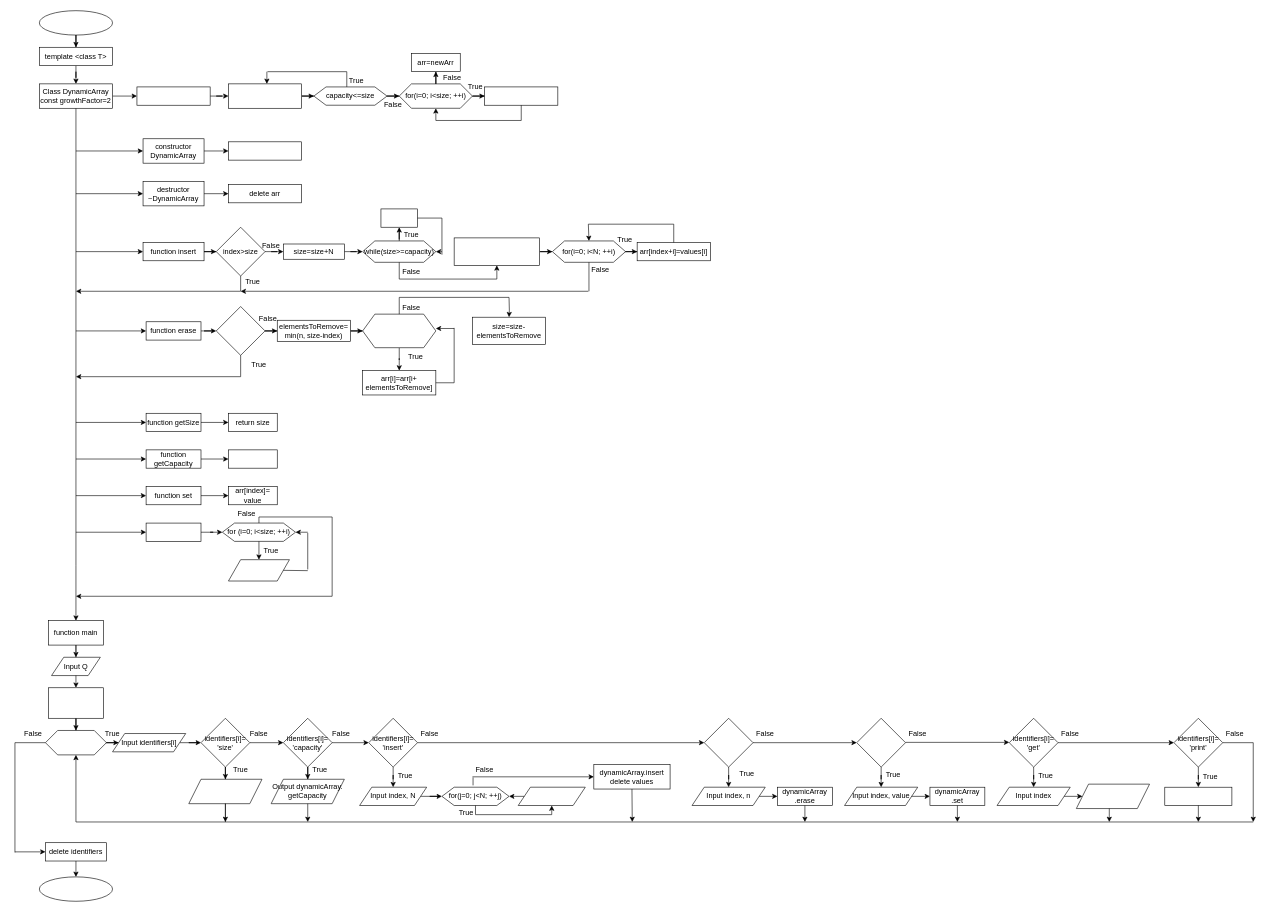
Image size: 1269x912. Some labels were removed from this diagram. Here are the shapes that lost their labels. From the top down, the centre of each, then its label:
At (76,22): "Beginning".
At (173,95): "function resize".
At (265,95): "capacity=capacity* growthFactor".
At (521,95): "newArr[i]=arr[i]".
At (265,150): "arr=new T[capacity]".
At (399,217): "resize".
At (497,251): "copy_backward(arr+index, arr+size-N; arr+size)".
At (240,330): "index>=size".
At (399,331): "for(i=index; i<size-elementsToRemove; i++)".
At (252,458): "return capacity".
At (173,531): "function print".
At (258,570): "Output arr[i]".
At (75,702): "DynamicArray dynamicArray".
At (75,742): "for(i=0; i<Q; i++)".
At (728,742): "identifiers[i]= 'erase'".
At (881,742): "identifiers[i]= 'set'".
At (225,791): "Output dynamicArray. getSize".
At (551,796): "Input values[j]".
At (1113,796): "Output dynamic Array[index]".
At (1198,796): "dynamicArray.print".
At (76,888): "End".
